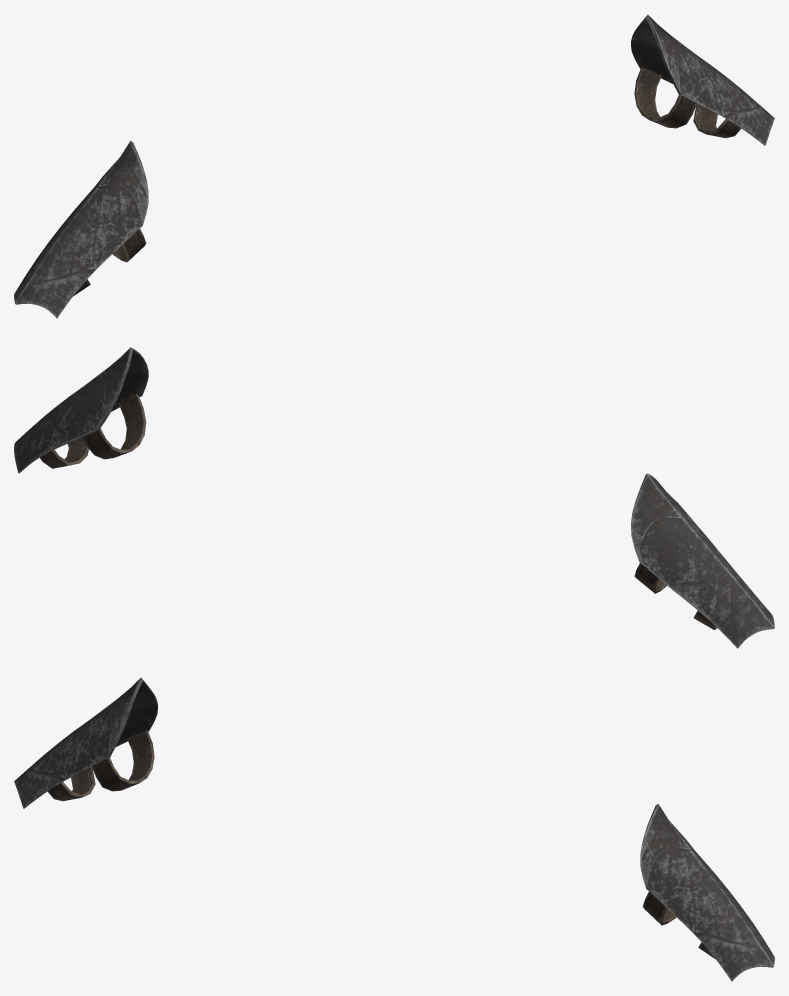
The model's file is sk_uruk_mordor_bracer_medium_c.fbx.
3 renders of one model, top to bottom at view 1: azimuth 30°, elevation 25°; view 2: azimuth 150°, elevation 25°; view 3: azimuth 330°, elevation 25°, orthographic.
Parts seen in each view (by area): view 1: sk_uruk_mordor_bracer_medium_c.1, sk_uruk_mordor_bracer_medium_c.0; view 2: sk_uruk_mordor_bracer_medium_c.1, sk_uruk_mordor_bracer_medium_c.0; view 3: sk_uruk_mordor_bracer_medium_c.1, sk_uruk_mordor_bracer_medium_c.0.
Boxes of the visible parts, x1,y1,x2,y2 form: sk_uruk_mordor_bracer_medium_c.1: [14, 14, 774, 318]; sk_uruk_mordor_bracer_medium_c.0: [73, 67, 741, 296]; sk_uruk_mordor_bracer_medium_c.1: [14, 347, 774, 648]; sk_uruk_mordor_bracer_medium_c.0: [40, 393, 716, 629]; sk_uruk_mordor_bracer_medium_c.1: [14, 677, 774, 981]; sk_uruk_mordor_bracer_medium_c.0: [47, 730, 715, 959].
Size of the model in its own units: 1.43 by 0.1426 by 0.2576.
Materials: 2 (2 with a texture image).
